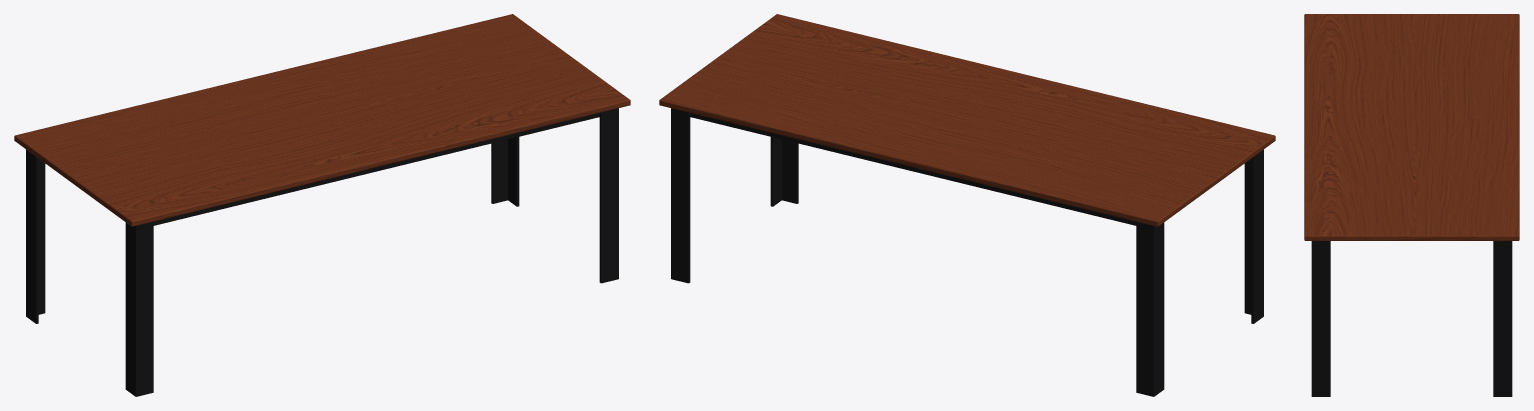
The model's file is table-valmo-220.glb.
3 renders of one model, left to right at view 1: azimuth 30°, elevation 25°; view 2: azimuth 150°, elevation 25°; view 3: azimuth 270°, elevation 25°, orthographic. The views are drawn at different scales.
Bounding box in the file's own units: 2.2 × 0.7599 × 0.9.
Materials: 2 (1 with a texture image).
